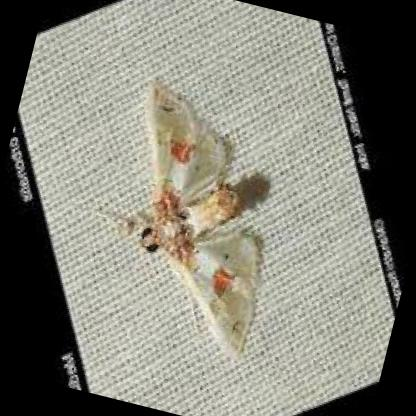leucinodes: (133, 80, 257, 355)
